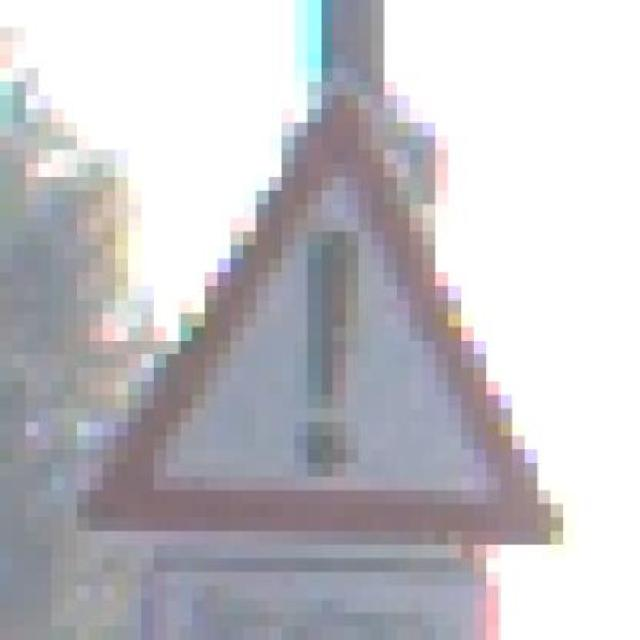Attention Please-: (48, 75, 586, 580)
